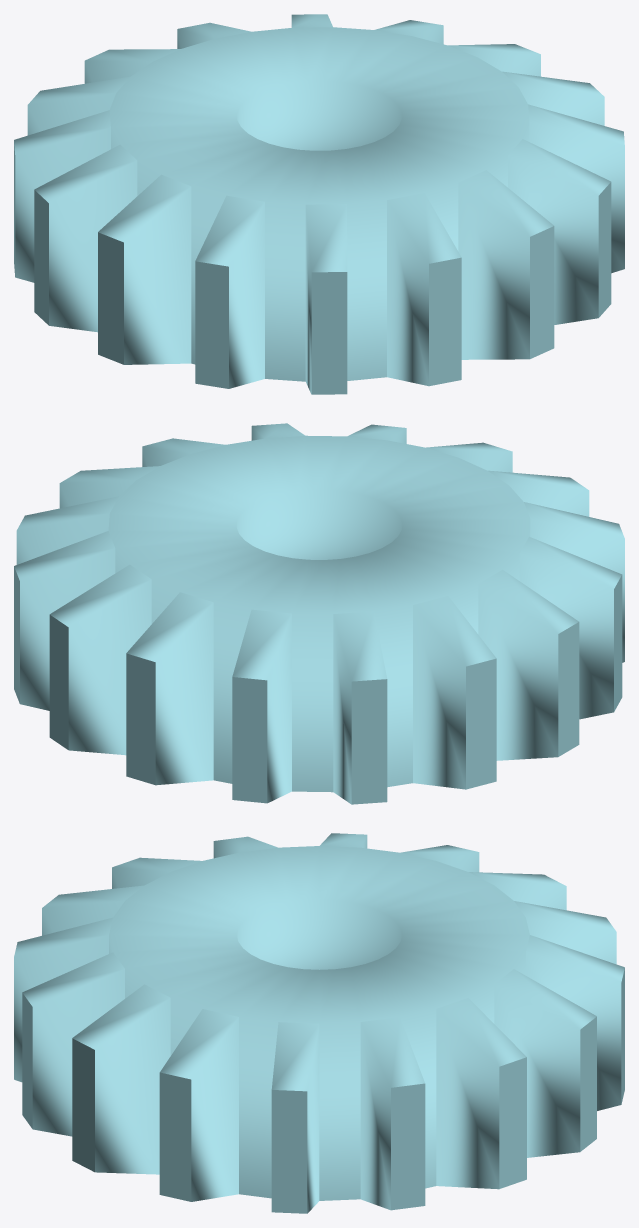
Rendered from gear.glb.
The picture shows the model from 3 angles, top to bottom: view 1: azimuth 30°, elevation 25°; view 2: azimuth 150°, elevation 25°; view 3: azimuth 270°, elevation 25°; orthographic projection.
Visible parts, largest first — view 1: Cylinder; view 2: Cylinder; view 3: Cylinder.
Boxes of the visible parts, x1,y1,x2,y2 form: Cylinder: [14, 14, 624, 394]; Cylinder: [14, 423, 624, 804]; Cylinder: [14, 833, 624, 1213].
Size of the model in its own units: 2.9 by 0.9292 by 2.9.
